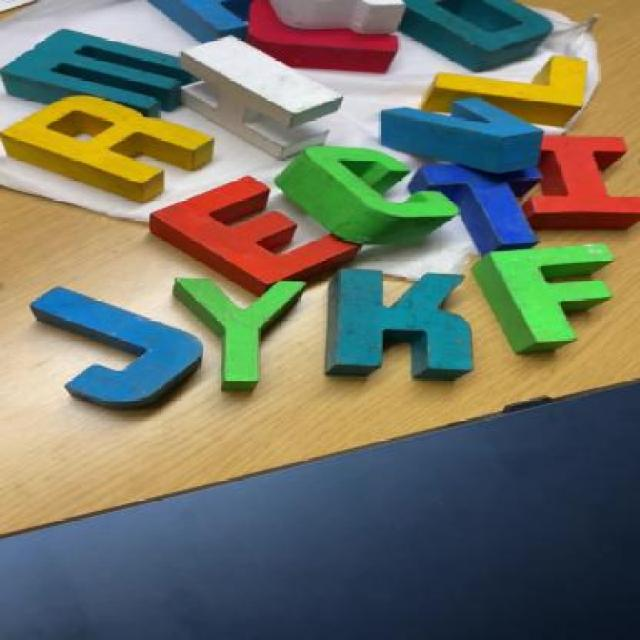C: (276, 144, 458, 238)
E: (162, 180, 352, 274)
F: (474, 244, 618, 353)
I: (536, 133, 632, 230)
J: (26, 288, 220, 410)
K: (310, 266, 488, 380)
L: (434, 56, 611, 116)
M: (8, 24, 197, 114)
R: (15, 95, 230, 194)
V: (376, 101, 544, 159)
Y: (172, 272, 306, 392)
